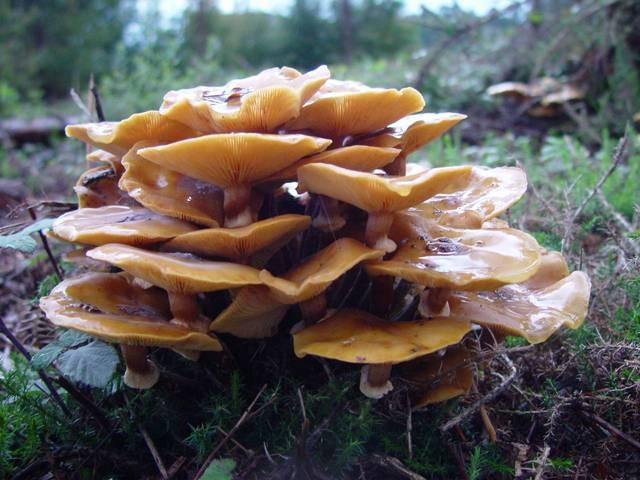edible_mushroom: (39, 63, 591, 404)
